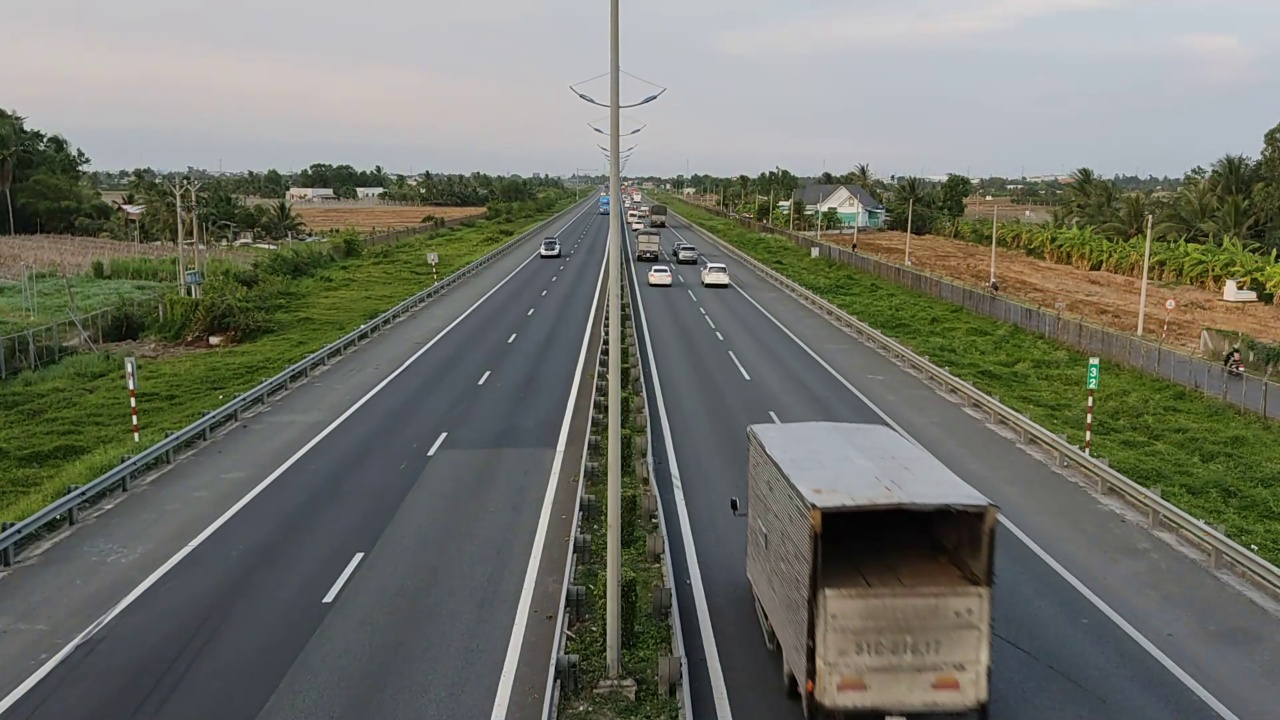car: (701, 262, 729, 287), (647, 264, 674, 287), (539, 236, 561, 257)
truck: (743, 419, 1000, 717)
